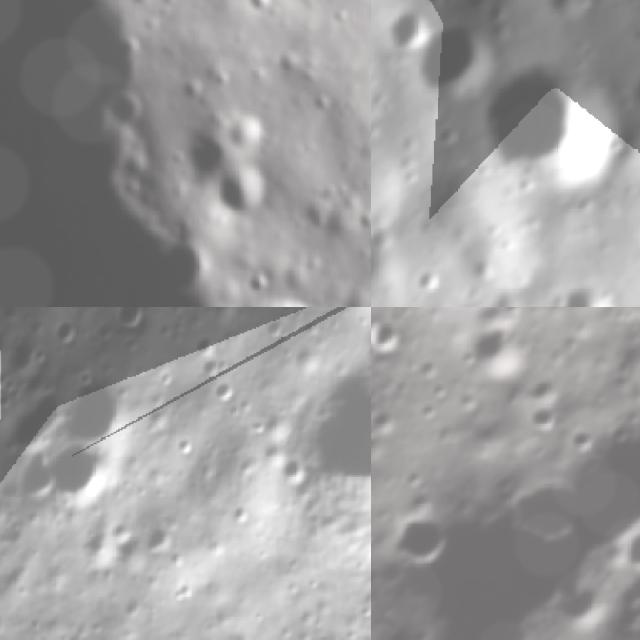crater: (504, 386, 640, 578), (482, 61, 627, 197), (275, 358, 371, 522), (50, 360, 149, 461), (32, 427, 121, 518), (453, 307, 538, 394), (376, 497, 462, 582), (419, 22, 498, 102), (371, 142, 415, 242), (185, 124, 242, 184), (371, 230, 413, 307), (221, 164, 275, 220), (0, 329, 48, 384), (132, 514, 184, 564), (372, 316, 418, 368), (15, 616, 109, 640), (47, 307, 89, 353), (560, 279, 623, 307), (395, 9, 433, 53), (192, 345, 232, 386), (204, 368, 244, 408), (185, 325, 222, 365), (618, 512, 640, 578), (541, 0, 600, 24), (106, 307, 154, 336), (434, 121, 458, 152), (371, 349, 384, 391)
